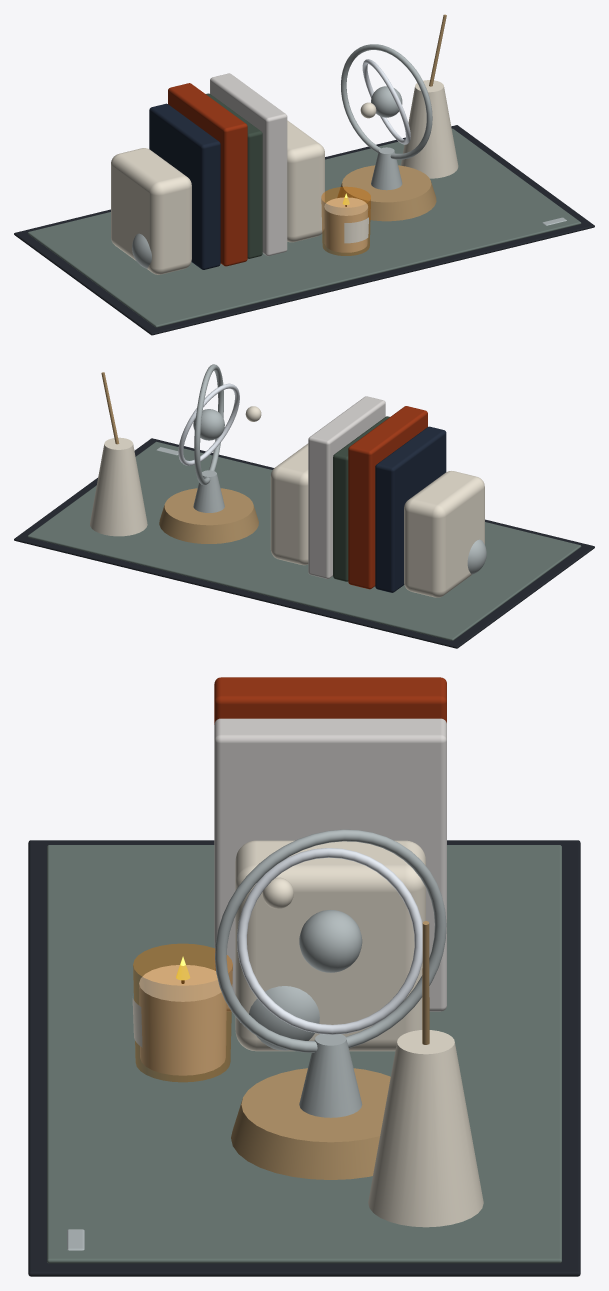
File: atelier-decor-curiosities-nordic.glb
3 views of the same model, one above another, from view 1: azimuth 30°, elevation 25°; view 2: azimuth 150°, elevation 25°; view 3: azimuth 270°, elevation 25° (orthographic). The views are drawn at different scales.
Bounding box in the file's own units: 0.78 × 0.2655 × 0.4201.
